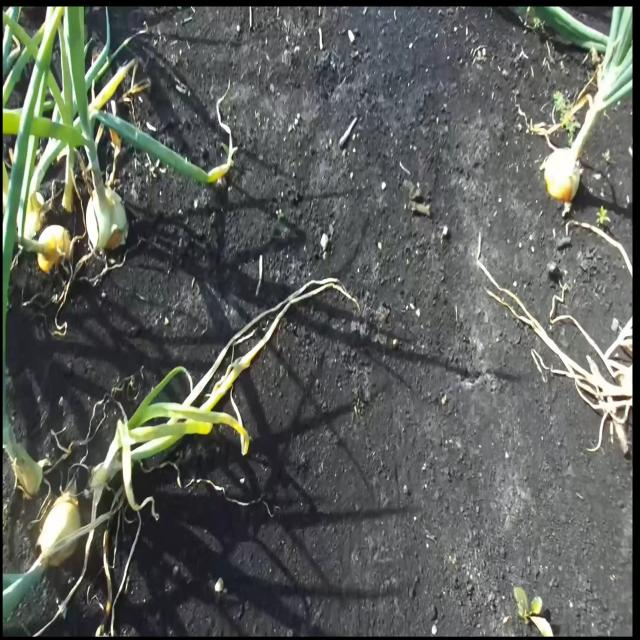onion: (2, 491, 81, 625), (85, 182, 129, 254), (541, 146, 581, 203), (36, 224, 73, 274)
